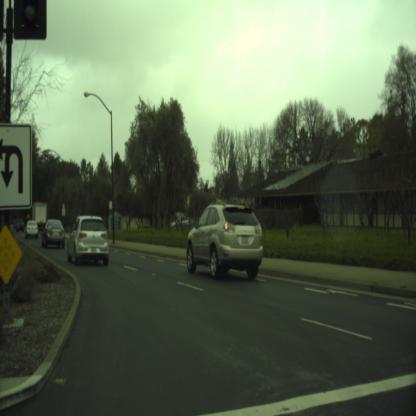Red: (14, 0, 44, 38)
